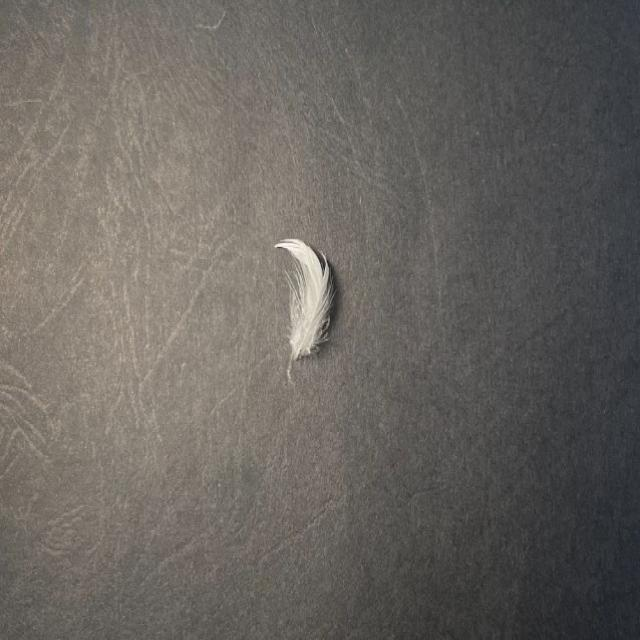feather: (267, 228, 337, 360)
